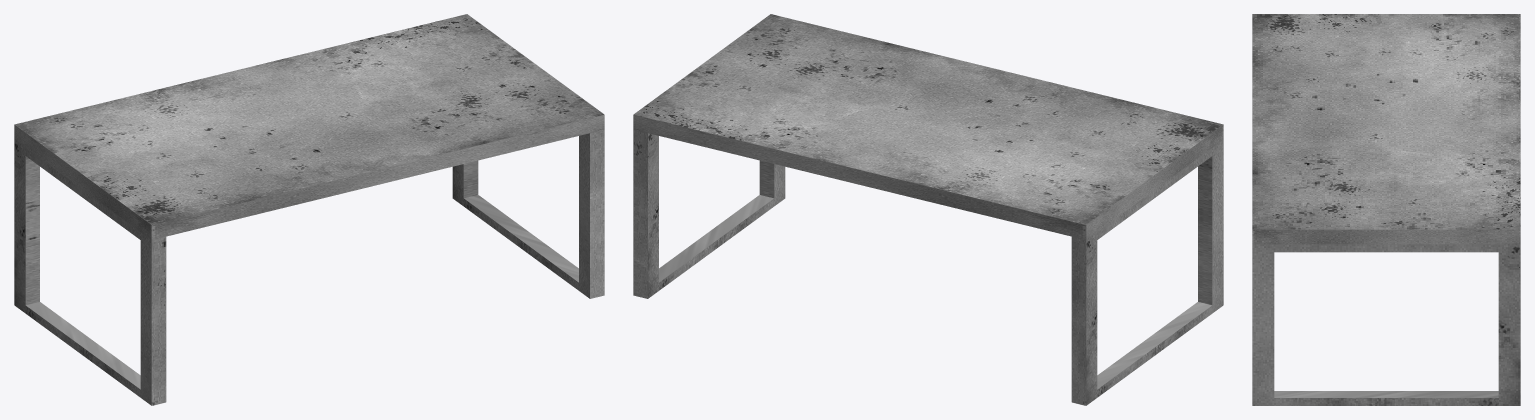
Rendered from table.fbx.
The picture shows the model from 3 angles, left to right: view 1: azimuth 30°, elevation 25°; view 2: azimuth 150°, elevation 25°; view 3: azimuth 270°, elevation 25°; orthographic projection. The views are drawn at different scales.
Parts seen in each view (by area): view 1: Cube.002; view 2: Cube.002; view 3: Cube.002.
Part boxes in pixels (x1=…): Cube.002: x1=14, y1=14, x2=604, y2=405; Cube.002: x1=633, y1=14, x2=1223, y2=405; Cube.002: x1=1252, y1=14, x2=1520, y2=405.
Size of the model in its own units: 231 by 88.32 by 122.
